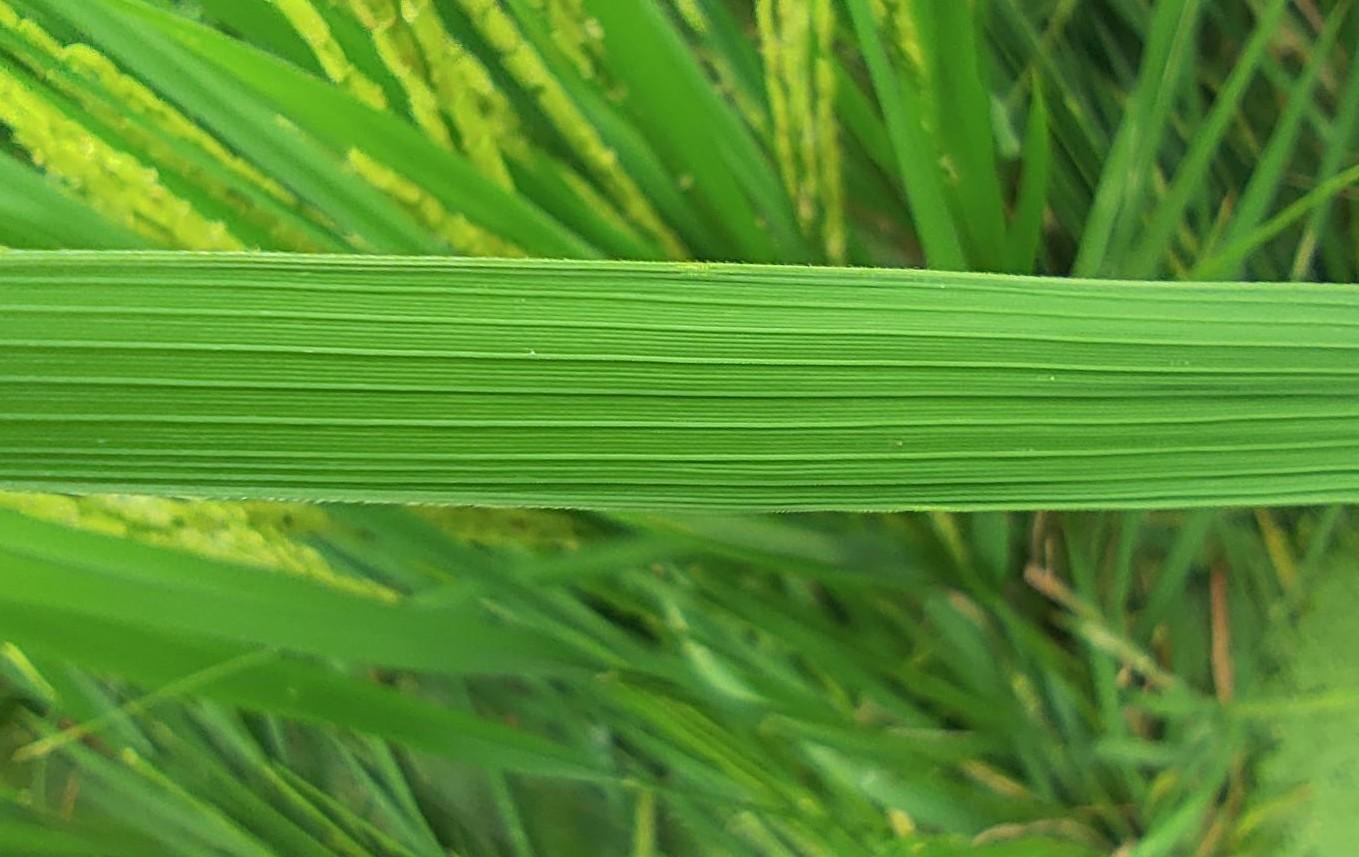Healthy: (1, 250, 1358, 511)
